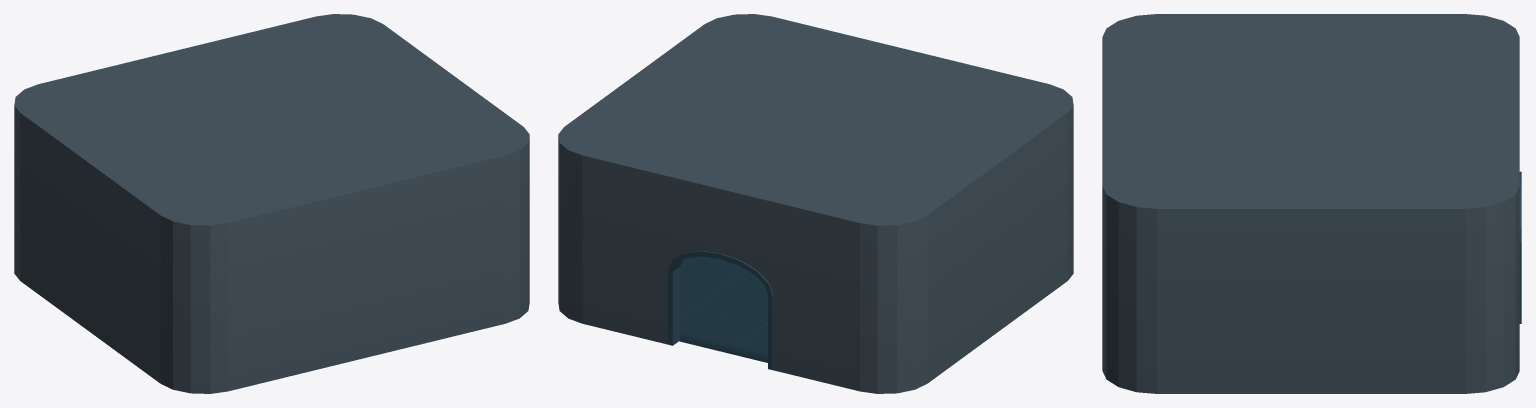
File: sala_portal.glb
The picture shows the model from 3 angles, left to right: view 1: azimuth 30°, elevation 25°; view 2: azimuth 150°, elevation 25°; view 3: azimuth 270°, elevation 25°; orthographic projection. The views are drawn at different scales.
Parts seen in each view (by area): view 1: casco; view 2: casco, paredes; view 3: casco, paredes.
Part boxes in pixels (left/top/right/bottom): casco: left=14, top=14, right=529, bottom=393; casco: left=558, top=14, right=1073, bottom=393; paredes: left=668, top=251, right=773, bottom=369; casco: left=1102, top=14, right=1519, bottom=393; paredes: left=1519, top=171, right=1521, bottom=323.
Size of the model in its own units: 10.54 by 4.67 by 9.58.
